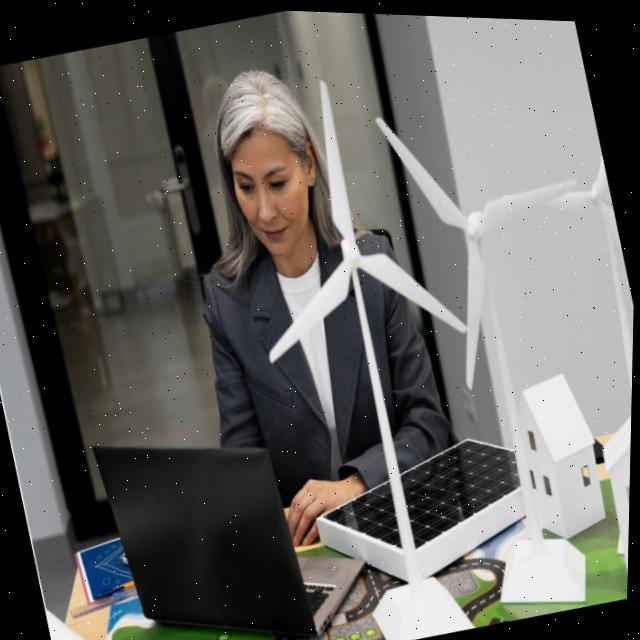solid-blade: (376, 114, 468, 225), (359, 250, 466, 326), (271, 268, 351, 359), (320, 77, 356, 237), (481, 174, 578, 232), (467, 234, 486, 383)
wind-turbine: (271, 77, 467, 588), (377, 114, 575, 543)
